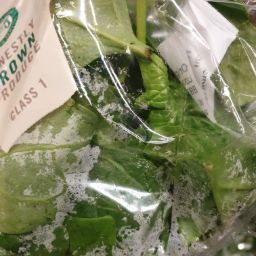Spinach: (71, 9, 224, 171), (95, 83, 247, 235), (13, 133, 155, 256)
